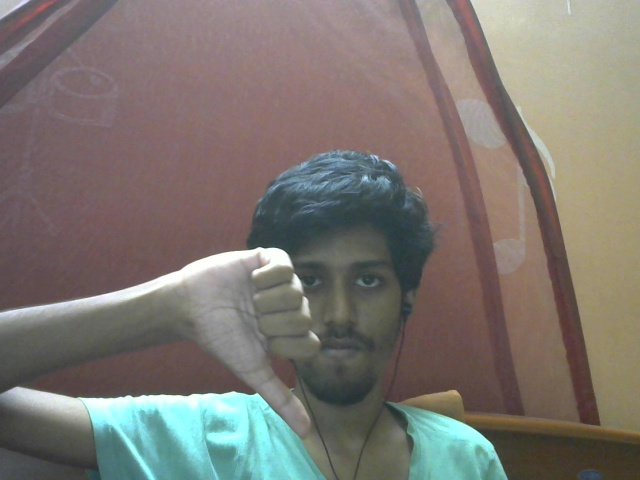ThumbsDown: (183, 247, 322, 439)
